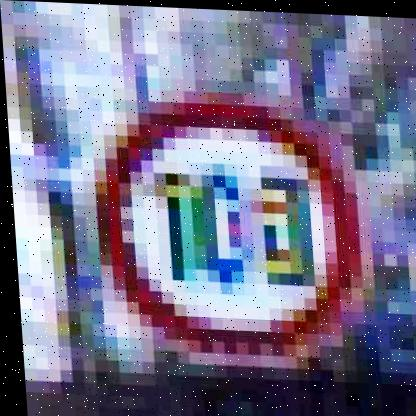Speed Limit -100-: (77, 89, 366, 369)
